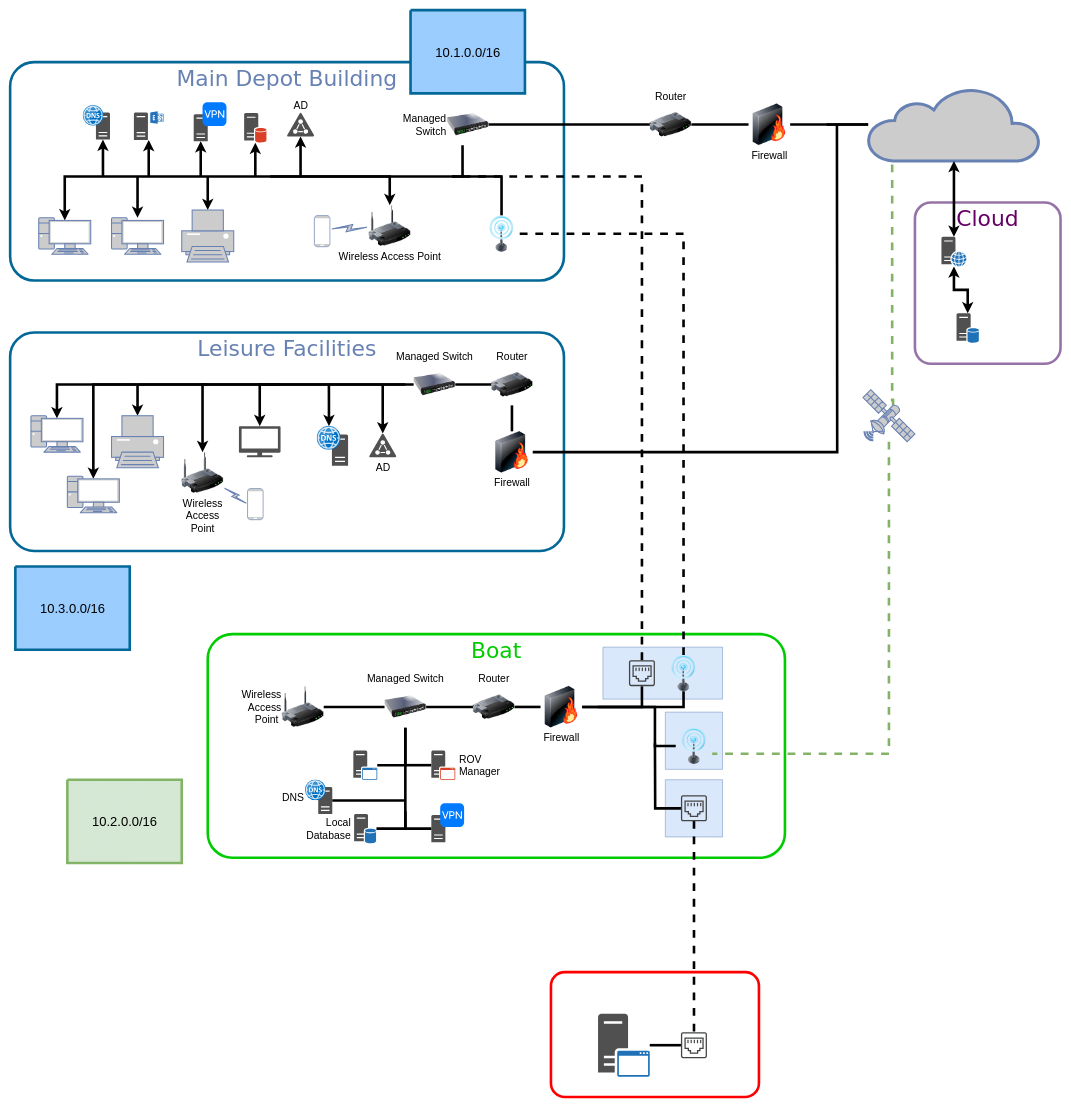
Some shapes in this 1071 by 1107 pixel diagram are drawn without their labels. The box of each missing label's shape, as (x1, y1, x2, y2) in pixels:
API: (941, 237, 966, 266)
Database: (956, 313, 979, 343)
Exchange: (134, 111, 163, 140)
Internet: (867, 87, 1040, 161)
NAS: (244, 113, 266, 142)
ROV: (549, 971, 760, 1098)
Satellite Uplink: (665, 712, 723, 769)
Shore/Boat: (602, 647, 723, 699)
Telemetry: (353, 750, 377, 779)
TV: (239, 426, 280, 457)
Umbilical Cord: (665, 779, 723, 837)
